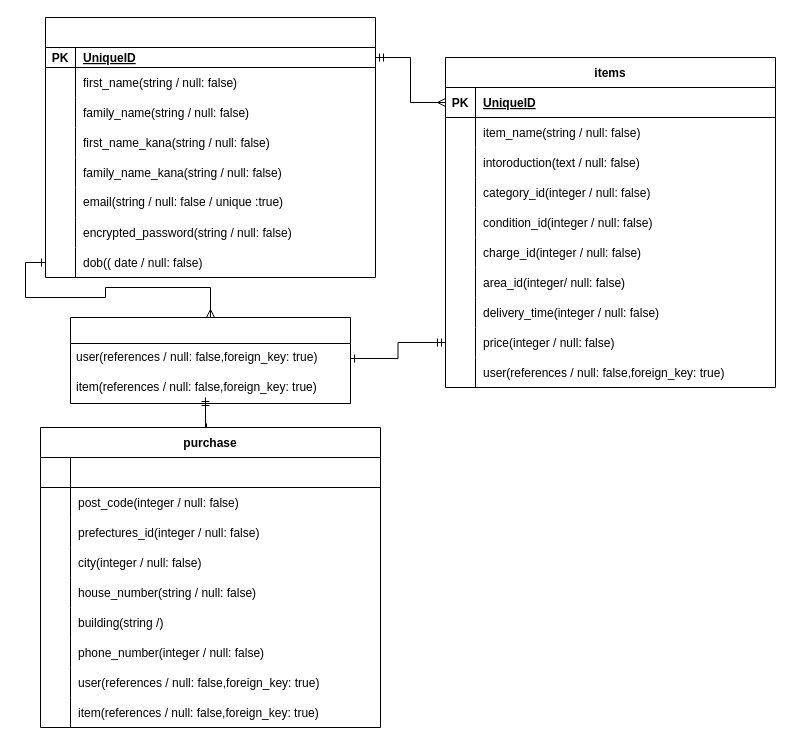
Image size: 793x745. Some labels were removed from this diagram. The shapes that lost their labels are listed below. From the top down, each one's box as (x1, y1, x2, y2) in pixels, then its label:
(44, 16, 376, 278): usres
(70, 316, 350, 404): purchase_management
